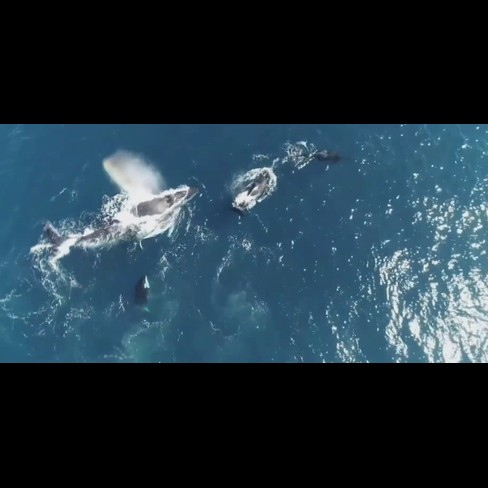orca: (29, 177, 219, 262), (225, 140, 345, 221), (127, 270, 169, 318)
